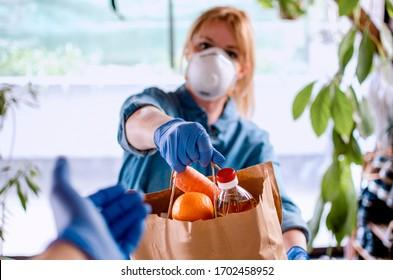gloves: (51, 156, 150, 260), (153, 116, 226, 167), (286, 245, 309, 260)
